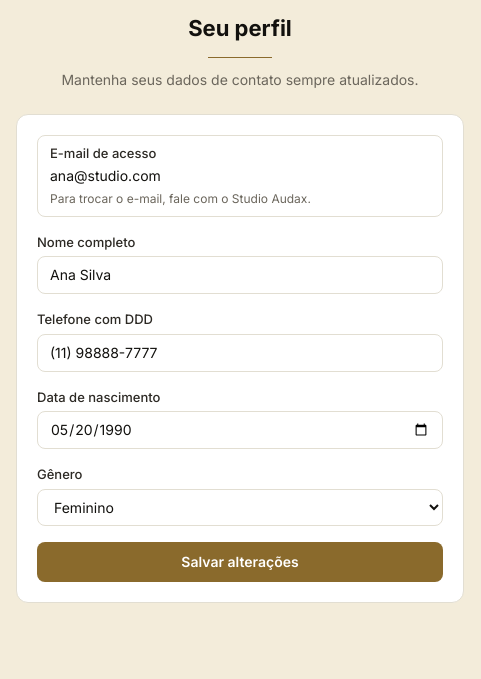
TelaPerfilPainel › erro da RPC vira alerta e não mostra confirmação
Expected: the field labelled "Nome completo" holds "Ana Silva", [37, 256, 443, 294]
What coordinates should you click on to do the following:
click the button "Salvar alterações"
I would click on:
 (240, 562)
Its box is [37, 542, 443, 582].
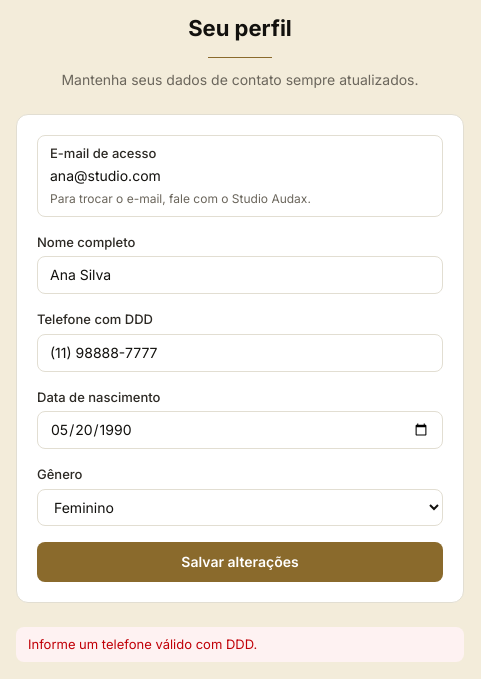
Now the message reads "Informe um telefone válido com DDD.", box [28, 636, 257, 652]
